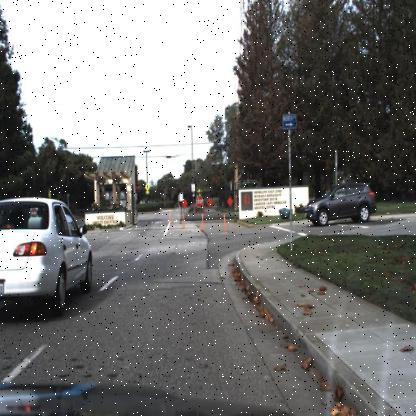car: (0, 195, 95, 313), (302, 178, 378, 227)
